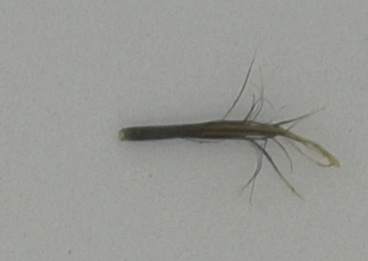เมล้ดปลายพู่กัน: (118, 54, 343, 206)
